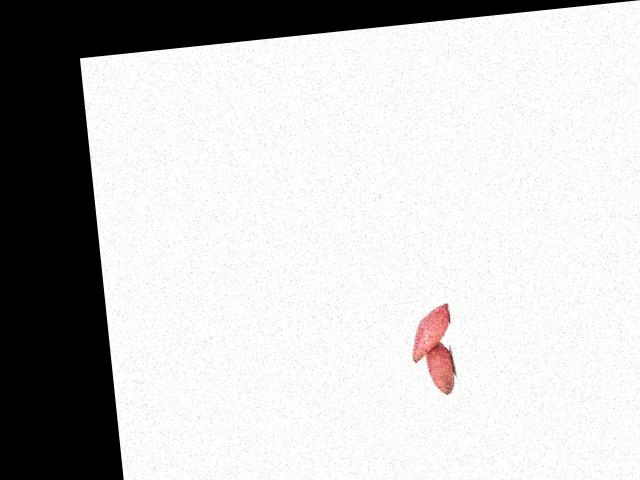sweet_potato: (420, 336, 456, 398)
